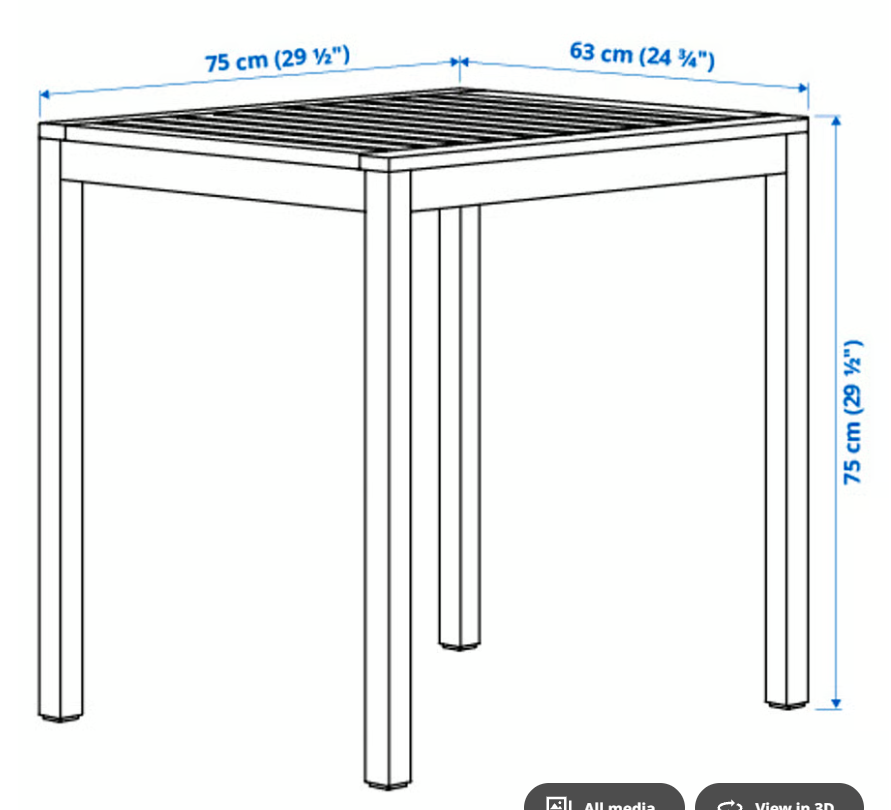table_legs: (363, 167, 413, 792), (763, 134, 811, 711), (37, 137, 84, 724), (438, 204, 482, 653)
table_support: (410, 134, 788, 213), (59, 140, 368, 213)
table_top: (37, 85, 811, 174)
